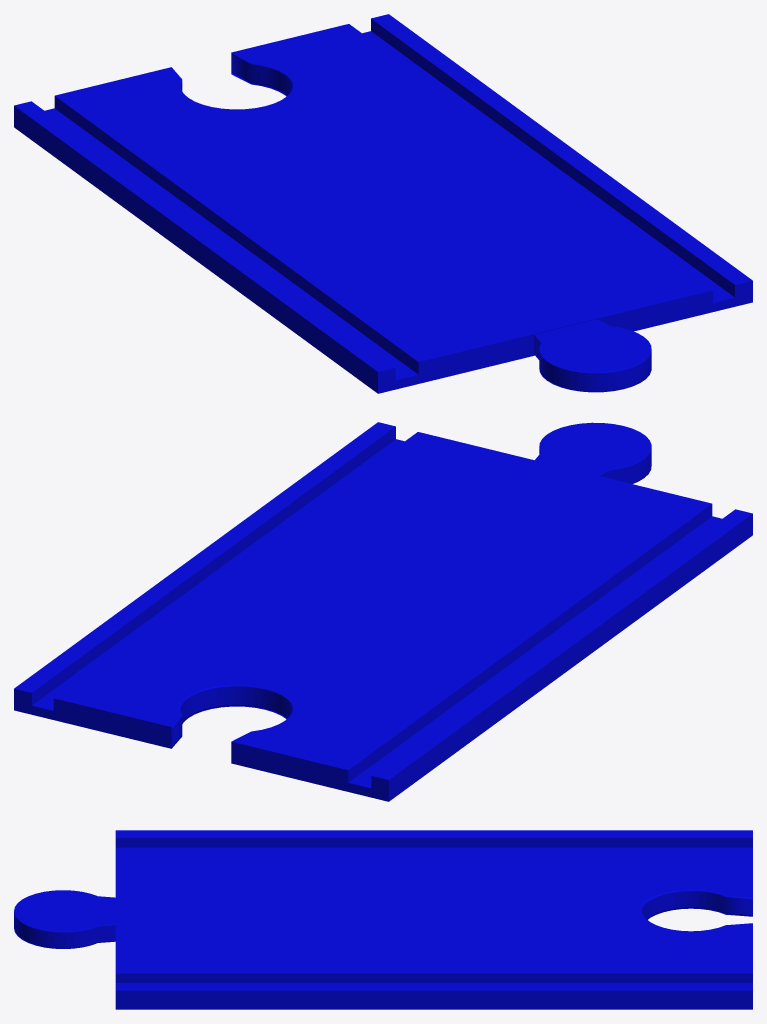
Rendered from Track2.fbx.
The picture shows the model from 3 angles, top to bottom: view 1: azimuth 30°, elevation 25°; view 2: azimuth 150°, elevation 25°; view 3: azimuth 270°, elevation 25°; orthographic projection. The views are drawn at different scales.
Parts seen in each view (by area): view 1: Cylinder.006; view 2: Cylinder.006; view 3: Cylinder.006.
Part boxes in pixels (bbox=[...]): Cylinder.006: bbox=[14, 14, 752, 393]; Cylinder.006: bbox=[14, 422, 752, 801]; Cylinder.006: bbox=[14, 830, 752, 1009].
Size of the model in its own units: 769 by 42.74 by 1500.
